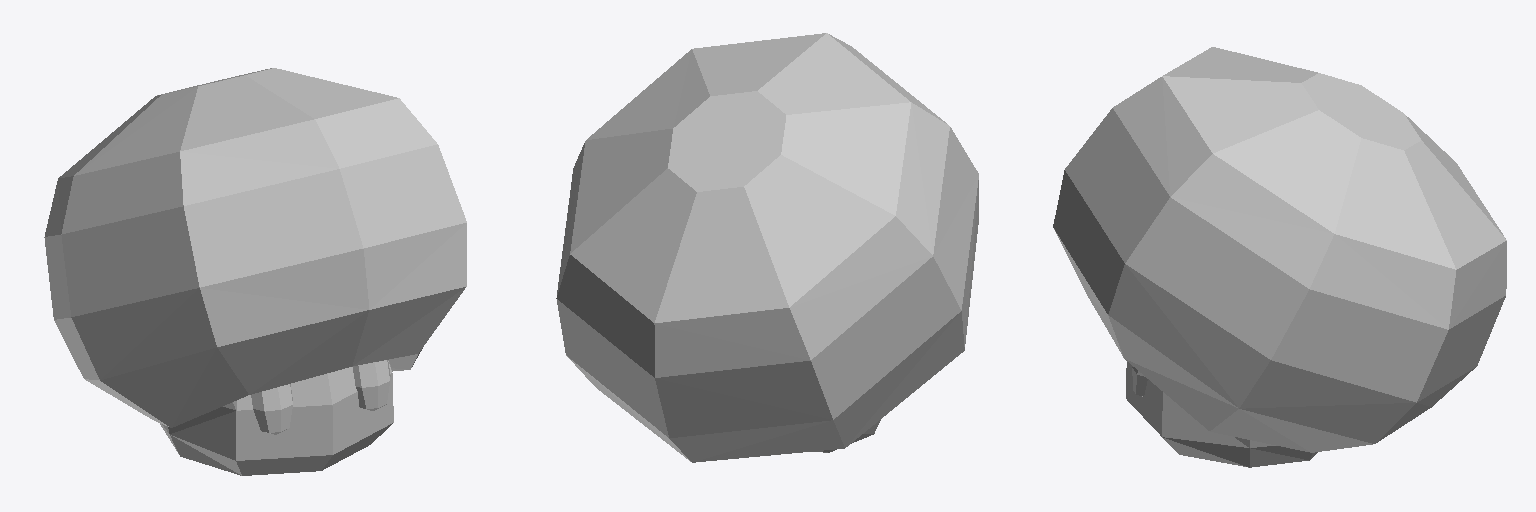
File: SuperMushroom.obj
The picture shows the model from 3 angles: view 1: azimuth 30°, elevation 25°; view 2: azimuth 150°, elevation 25°; view 3: azimuth 270°, elevation 25°; orthographic projection.
Visible parts, largest first — view 1: Mesh_0342; view 2: Mesh_0342; view 3: Mesh_0342.
Part boxes in pixels (bbox=[...]): Mesh_0342: bbox=[44, 68, 466, 475]; Mesh_0342: bbox=[556, 33, 978, 462]; Mesh_0342: bbox=[1053, 47, 1506, 467].
Size of the model in its own units: 0.9497 by 0.8631 by 0.987.